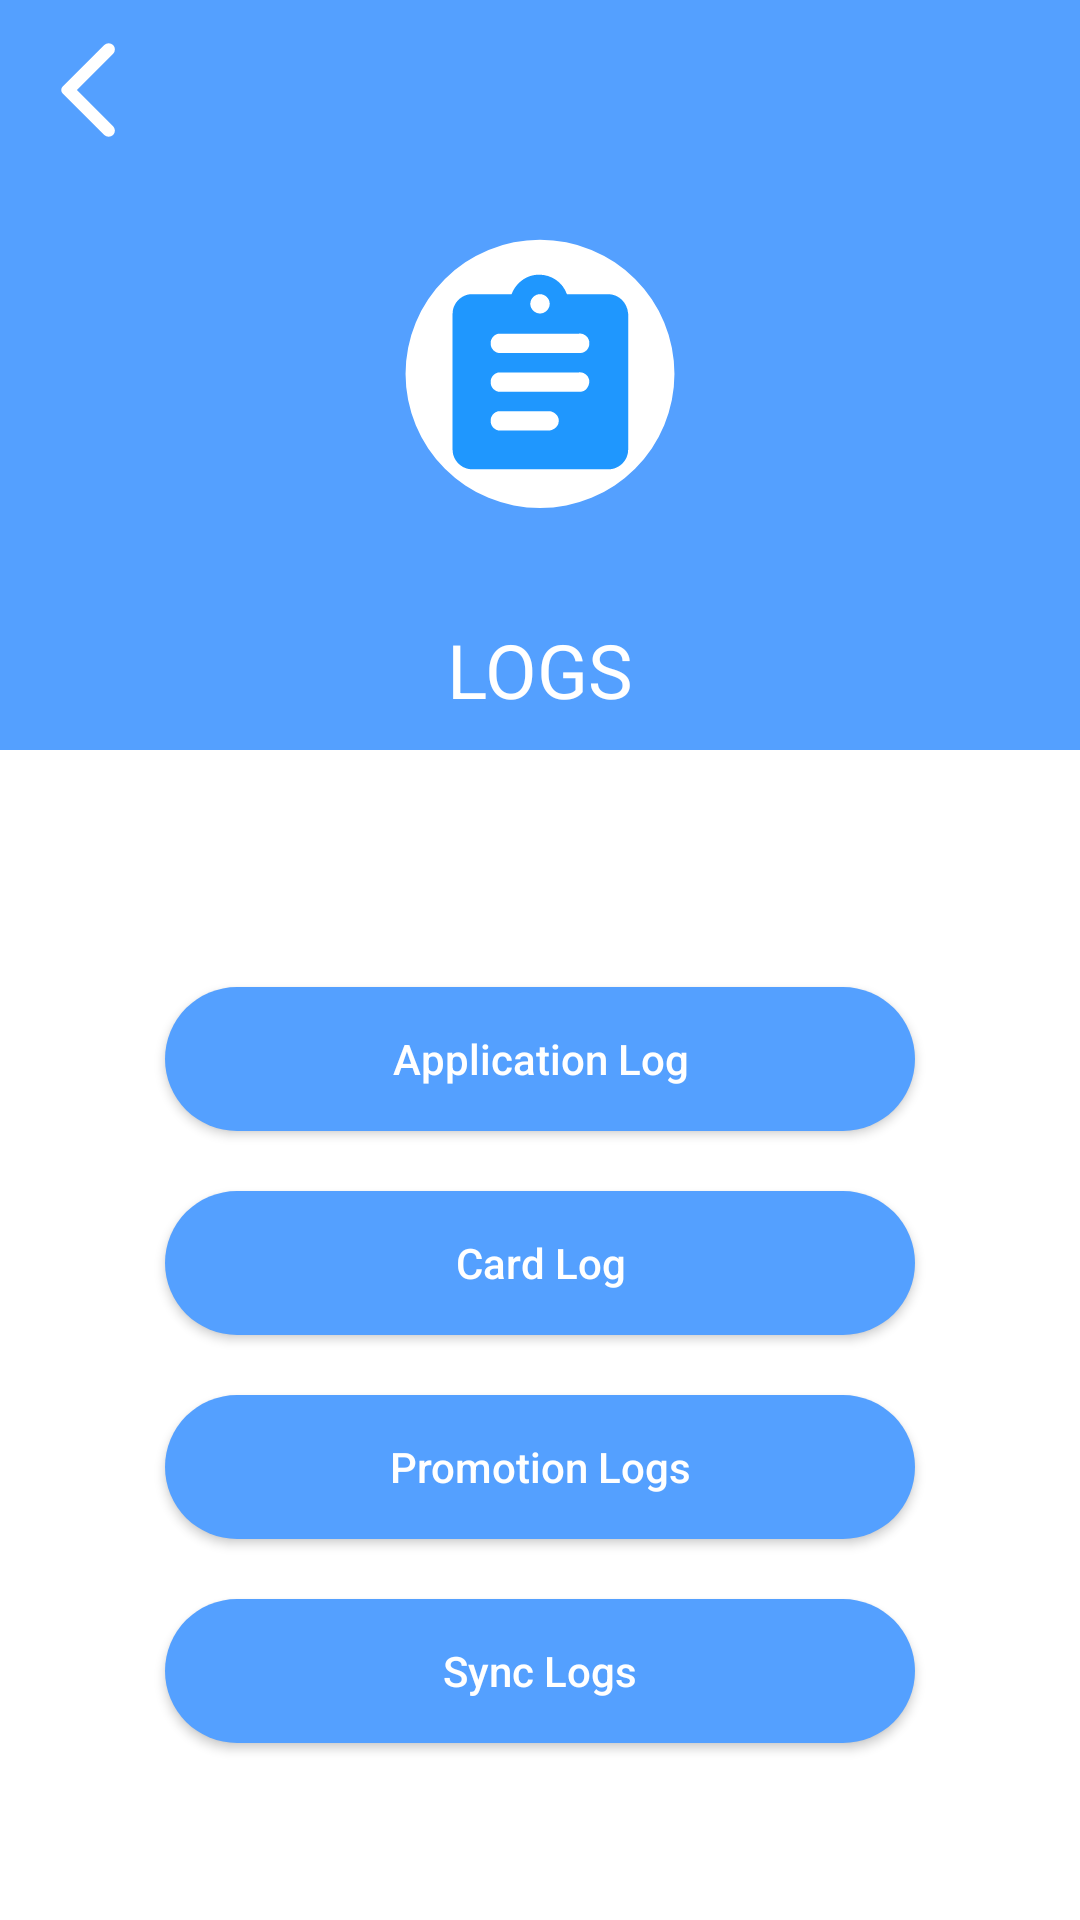

Named icons in this screenshot (1080×1920) and their bounding boxes, BBox(x1, y1, x2, y2):
arrow back: BBox(61, 43, 115, 137)
